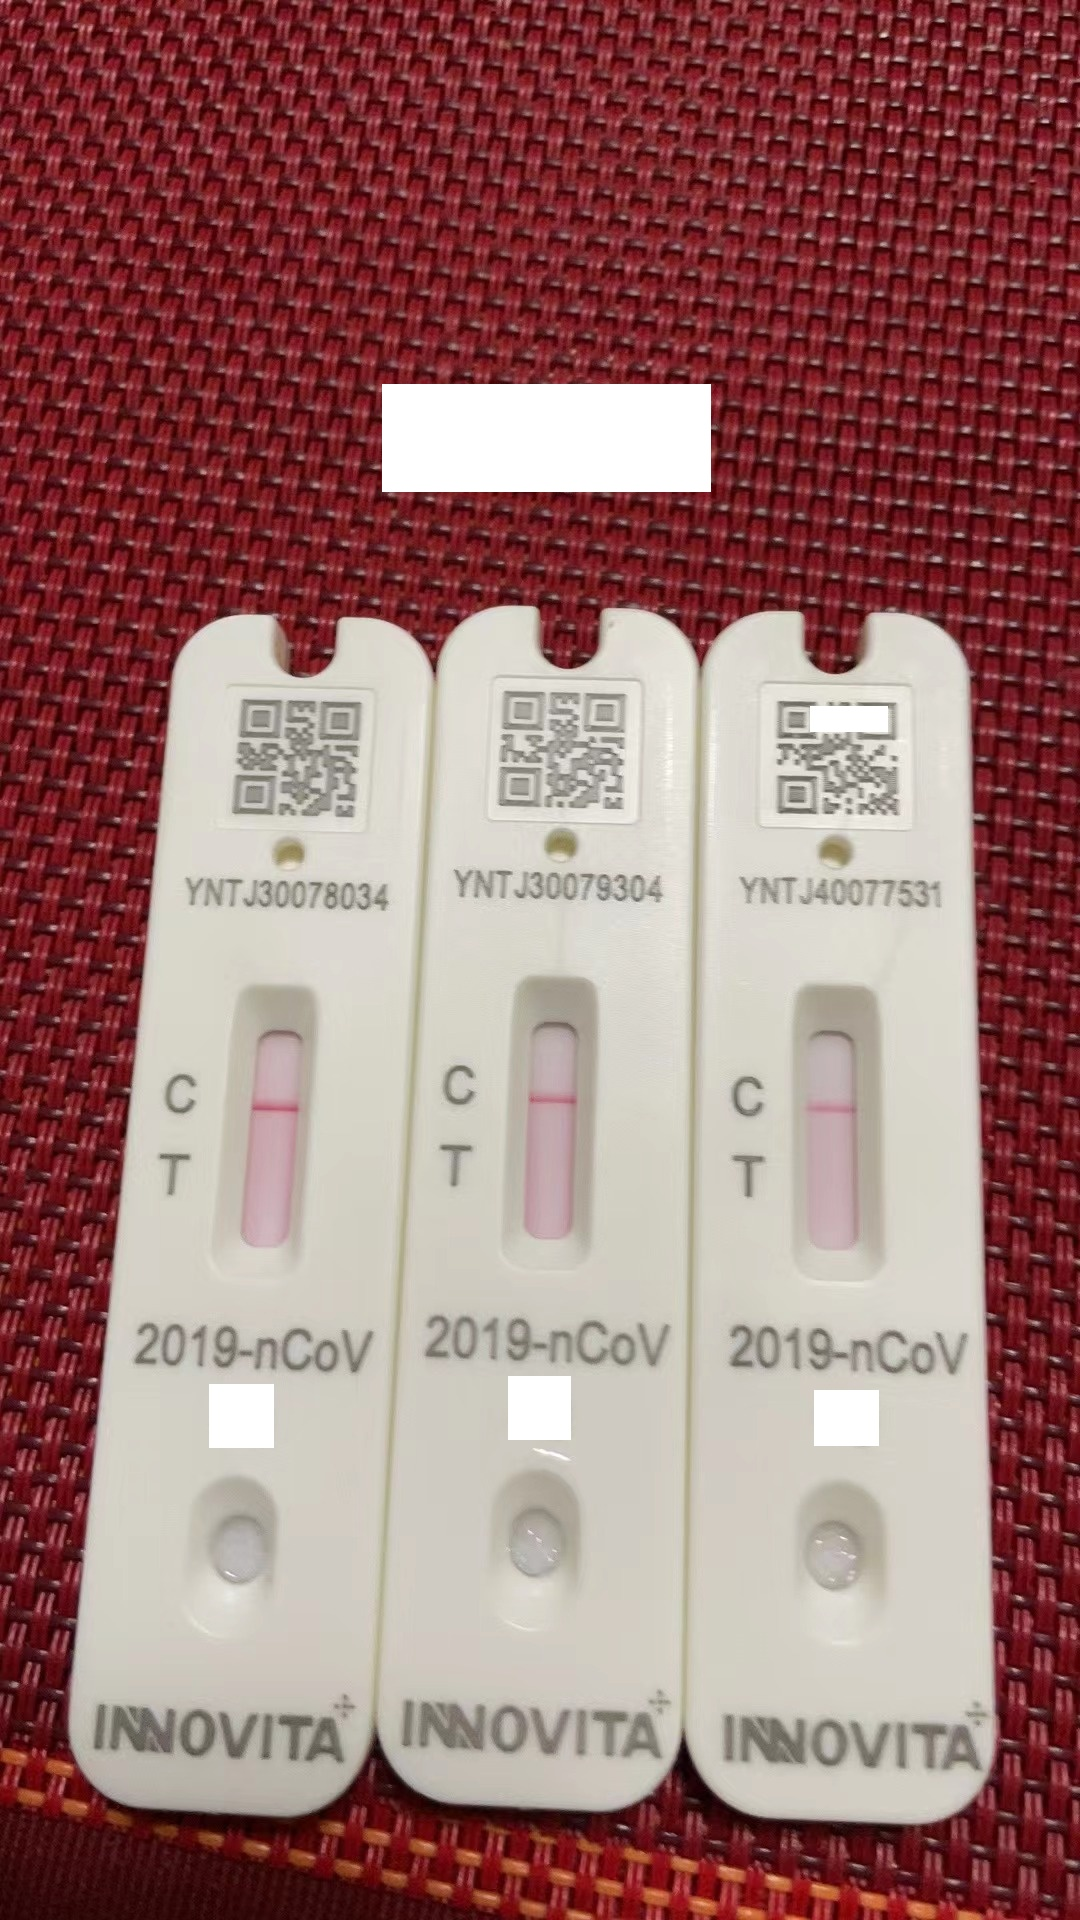negative: (498, 973, 603, 1300), (785, 984, 886, 1298), (216, 985, 320, 1286)
